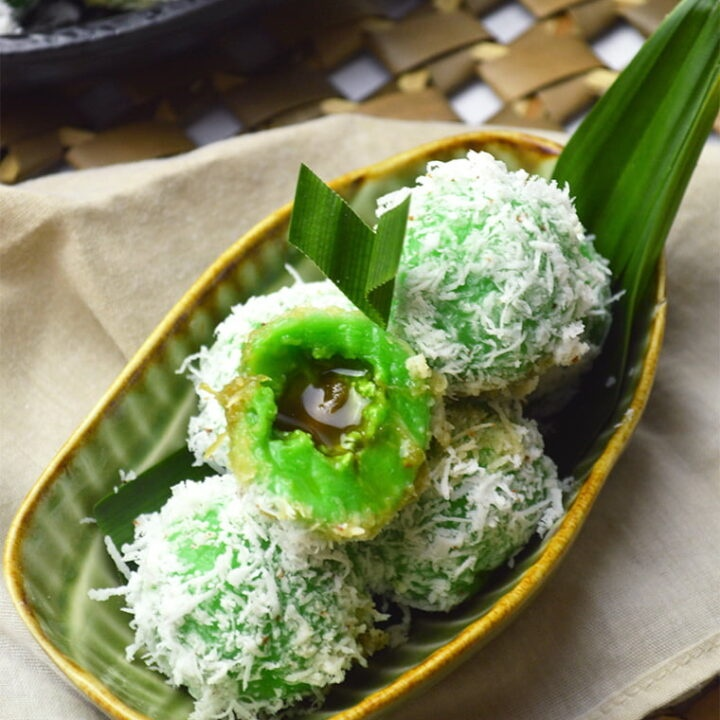klepon: (122, 261, 459, 548), (55, 461, 398, 720)
